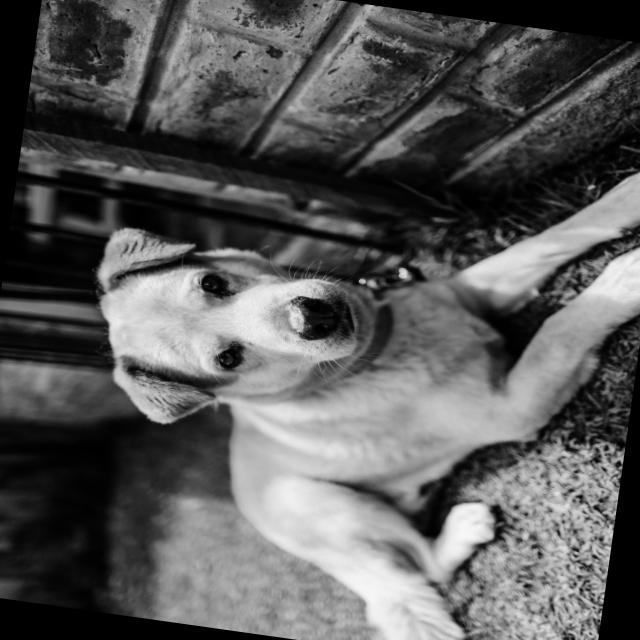laying down: (45, 79, 640, 640)
